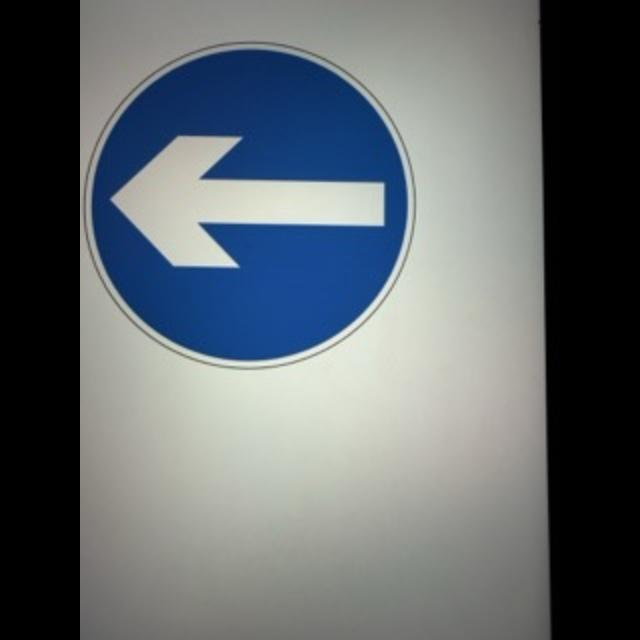TURN LEFT: (85, 38, 419, 370)
